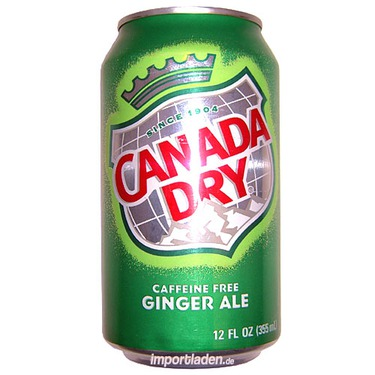Lata: (95, 5, 286, 372)
